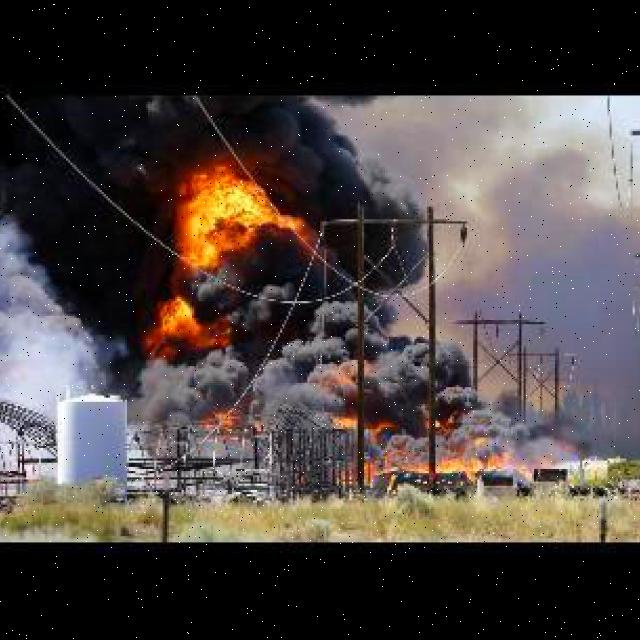fire: (133, 171, 299, 345), (364, 458, 534, 486), (198, 404, 242, 431)
smoke: (211, 228, 431, 343), (0, 202, 115, 420), (125, 346, 488, 412), (301, 94, 450, 224), (347, 412, 536, 467)
